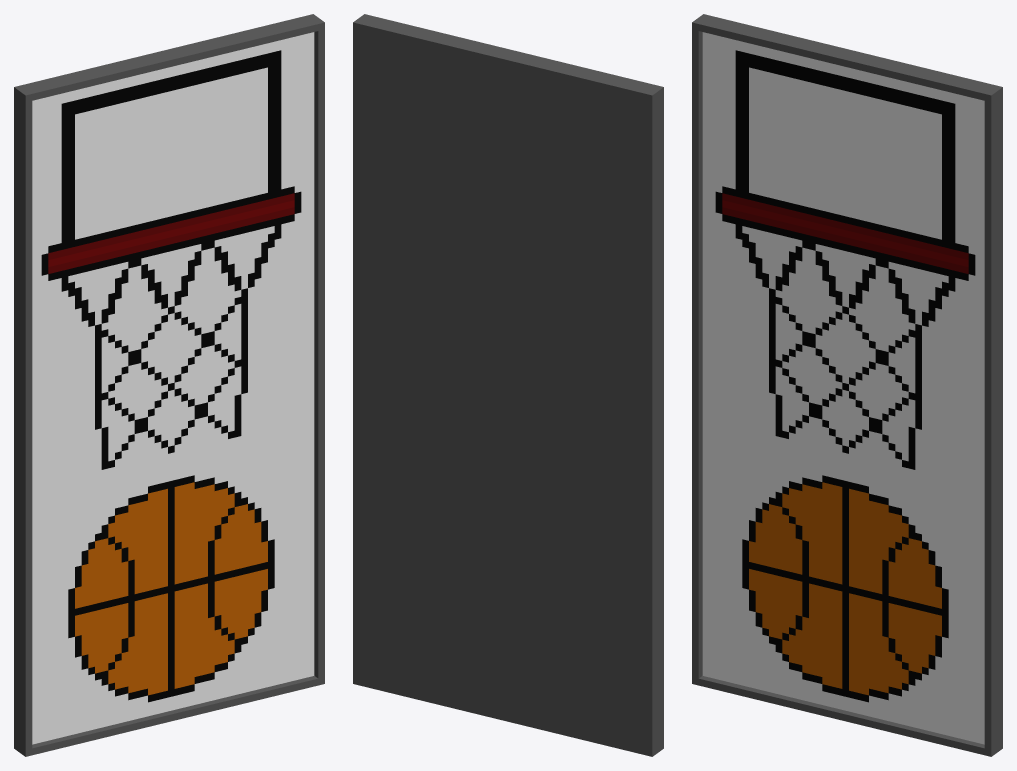
File: basketball_poster.obj
3 views of the same model, side by side, from view 1: azimuth 30°, elevation 25°; view 2: azimuth 150°, elevation 25°; view 3: azimuth 330°, elevation 25° (orthographic).
Size of the model in its own units: 4.5 by 9.5 by 0.3.
Materials: 1 (1 with a texture image).
